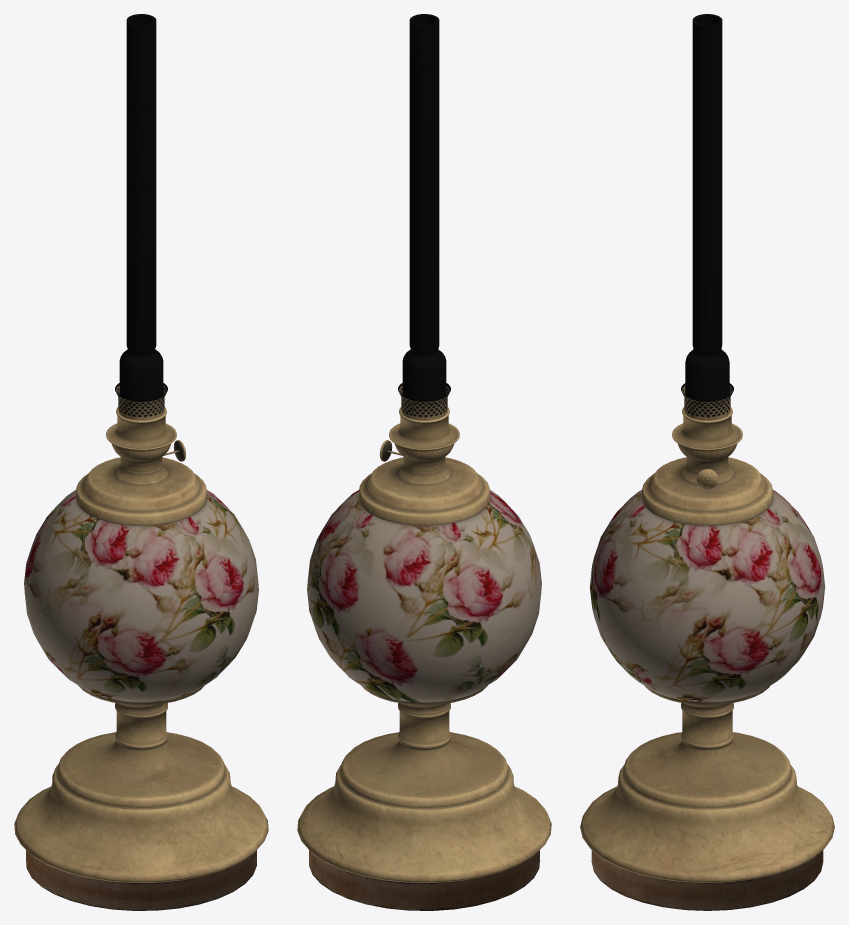
The picture shows the model from 3 angles, left to right: view 1: azimuth 30°, elevation 25°; view 2: azimuth 150°, elevation 25°; view 3: azimuth 270°, elevation 25°; orthographic projection.
Visible parts, largest first — view 1: vintage_oil_lamp, vintage_oil_lamp_glass; view 2: vintage_oil_lamp, vintage_oil_lamp_glass; view 3: vintage_oil_lamp, vintage_oil_lamp_glass.
Part boxes in pixels (x1,y1,x2,y2): vintage_oil_lamp: (14, 407, 268, 910); vintage_oil_lamp_glass: (115, 14, 167, 420); vintage_oil_lamp: (297, 407, 551, 910); vintage_oil_lamp_glass: (398, 14, 450, 420); vintage_oil_lamp: (580, 407, 834, 910); vintage_oil_lamp_glass: (681, 14, 733, 420).
Bounding box in the file's own units: 0.22 × 0.8016 × 0.22.
3 materials, 3 textured.
